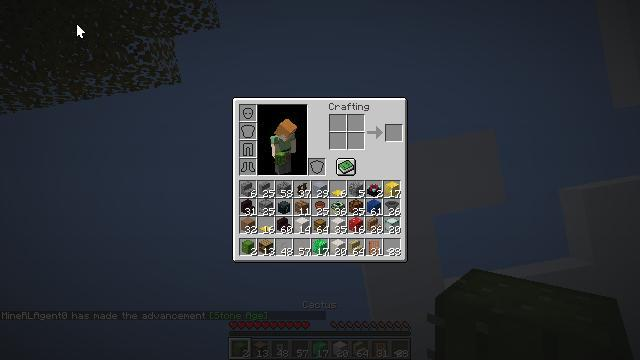cursor: (76, 23, 86, 39)
